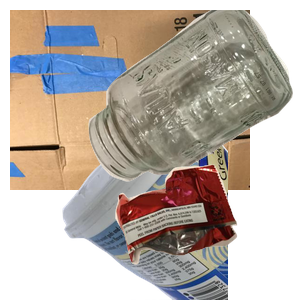cardboard: (10, 10, 250, 190)
glass: (86, 10, 300, 184)
plastic: (60, 120, 300, 300)
trash: (113, 162, 300, 300)
